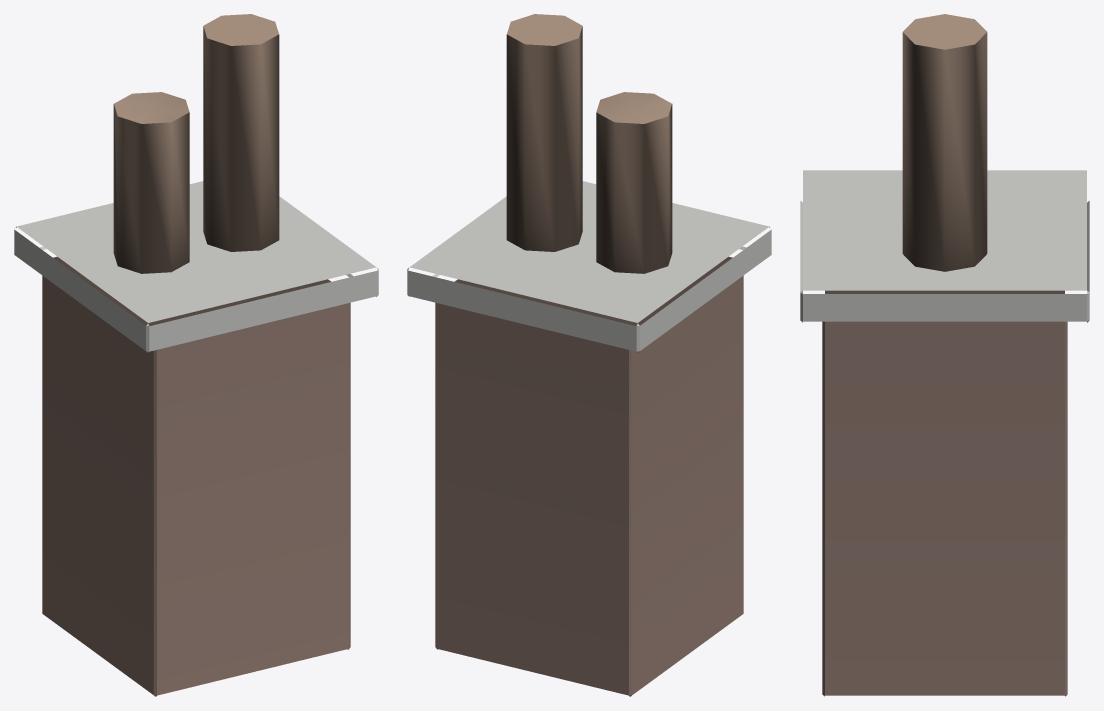
The model's file is vent_stack.glb.
3 views of the same model, side by side, from view 1: azimuth 30°, elevation 25°; view 2: azimuth 150°, elevation 25°; view 3: azimuth 270°, elevation 25° (orthographic). The views are drawn at different scales.
Visible parts, largest first — view 1: props_vent_stack; view 2: props_vent_stack; view 3: props_vent_stack.
Part boxes in pixels (bbox=[...]): props_vent_stack: bbox=[14, 14, 378, 696]; props_vent_stack: bbox=[407, 14, 771, 696]; props_vent_stack: bbox=[800, 14, 1089, 696].
Bounding box in the file's own units: 1.3 × 3.16 × 1.3.
